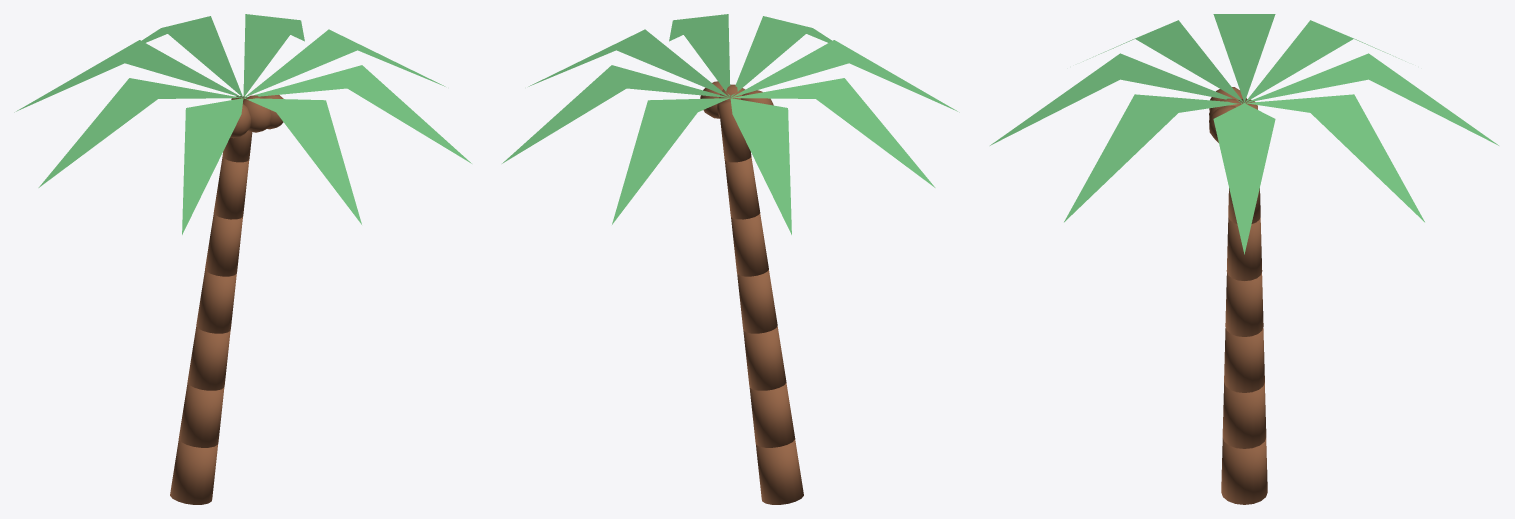
Rendered from Palm_tree_LOD2.glb.
3 renders of one model, left to right at view 1: azimuth 30°, elevation 25°; view 2: azimuth 150°, elevation 25°; view 3: azimuth 270°, elevation 25°, orthographic. The views are drawn at different scales.
Visible parts, largest first — view 1: Palm frond.005, Palm frond.006, Palm frond.004, Palm frond.007, Palm frond.003, Palm frond.001, Palm frond.002, Palm frond, Trunk segment, Trunk segment.001, Trunk segment.002, Trunk segment.003 (+4 smaller); view 2: Palm frond.003, Palm frond.002, Palm frond.004, Palm frond.001, Palm frond.005, Palm frond.007, Palm frond.006, Palm frond, Trunk segment, Trunk segment.001, Trunk segment.002, Trunk segment.003 (+3 smaller); view 3: Palm frond, Palm frond.001, Palm frond.007, Palm frond.002, Palm frond.006, Palm frond.004, Trunk segment, Palm frond.003, Palm frond.005, Trunk segment.001, Trunk segment.002, Trunk segment.003 (+1 smaller).
Boxes of the visible parts, bbox=[...] form: Palm frond.005: bbox=[182, 98, 243, 234]; Palm frond.006: bbox=[244, 98, 361, 224]; Palm frond.004: bbox=[38, 78, 241, 187]; Palm frond.007: bbox=[244, 65, 471, 163]; Palm frond.003: bbox=[14, 40, 242, 112]; Palm frond.001: bbox=[243, 14, 304, 97]; Palm frond.002: bbox=[142, 16, 242, 97]; Palm frond: bbox=[244, 29, 445, 97]; Trunk segment: bbox=[170, 439, 217, 504]; Trunk segment.001: bbox=[178, 383, 224, 447]; Trunk segment.002: bbox=[187, 326, 230, 390]; Trunk segment.003: bbox=[196, 270, 236, 333]; Palm frond.003: bbox=[730, 98, 791, 234]; Palm frond.002: bbox=[612, 98, 729, 224]; Palm frond.004: bbox=[732, 78, 935, 187]; Palm frond.001: bbox=[502, 65, 729, 163]; Palm frond.005: bbox=[731, 40, 959, 112]; Palm frond.007: bbox=[669, 14, 730, 97]; Palm frond.006: bbox=[731, 16, 831, 97]; Palm frond: bbox=[528, 29, 729, 97]; Trunk segment: bbox=[756, 439, 803, 504]; Trunk segment.001: bbox=[749, 383, 795, 447]; Trunk segment.002: bbox=[743, 326, 786, 390]; Trunk segment.003: bbox=[737, 270, 777, 333]; Palm frond: bbox=[1213, 103, 1275, 254]; Palm frond.001: bbox=[1245, 94, 1424, 222]; Palm frond.007: bbox=[1064, 94, 1243, 222]; Palm frond.002: bbox=[1245, 53, 1498, 145]; Palm frond.006: bbox=[990, 53, 1243, 145]; Palm frond.004: bbox=[1213, 14, 1275, 102]; Trunk segment: bbox=[1221, 438, 1267, 504]; Palm frond.003: bbox=[1245, 20, 1405, 102]; Palm frond.005: bbox=[1083, 20, 1243, 102]; Trunk segment.001: bbox=[1222, 382, 1266, 448]; Trunk segment.002: bbox=[1224, 328, 1264, 392]; Trunk segment.003: bbox=[1225, 273, 1263, 336].
Bounding box in the file's own units: 3.3 × 3.24 × 3.3.
